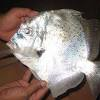Ikan Bawal: (7, 11, 100, 93)
